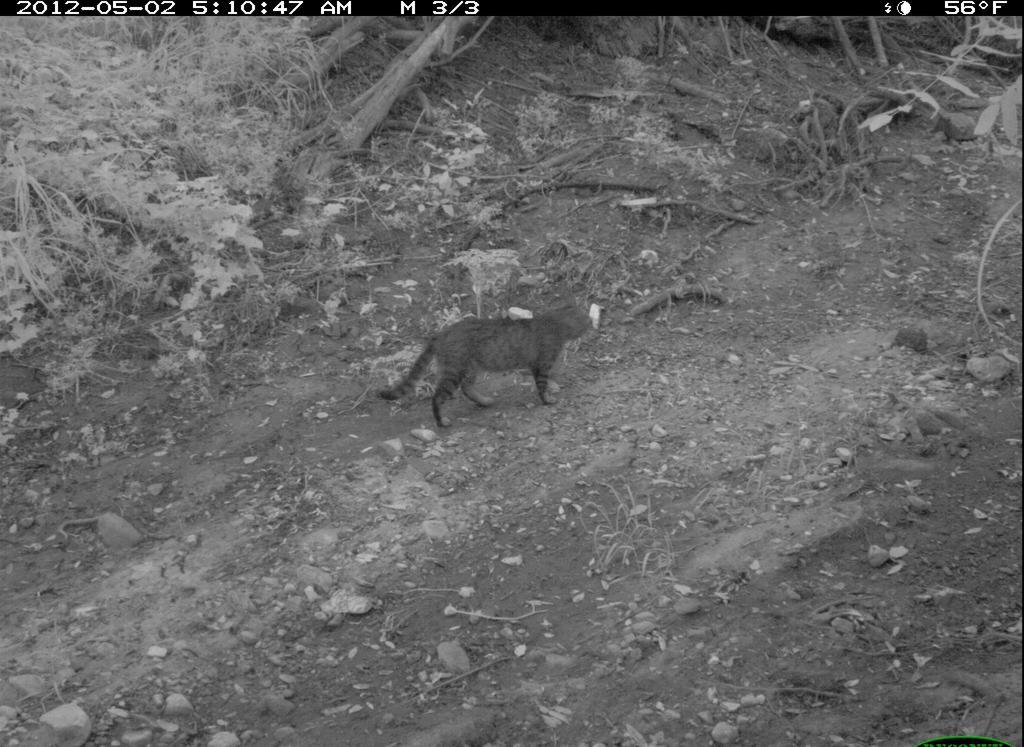cat: (369, 285, 609, 438)
